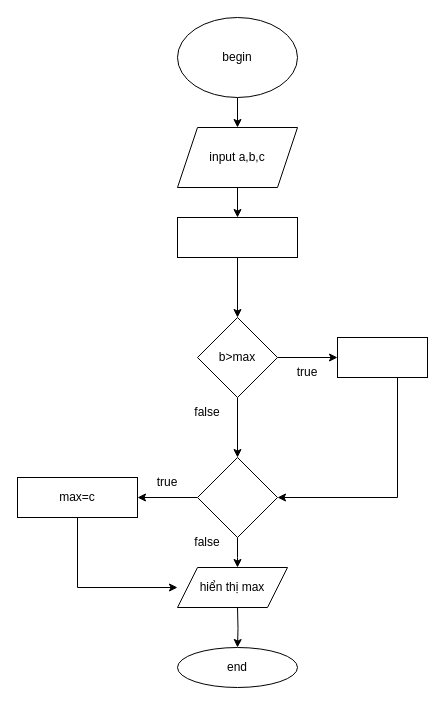
The diagram is 445 pixels wide and 705 high, and some of its shapes have lost their labels. Here are the shapes that lost their labels. From the top down, the centre of each, then its label:
At (x=237, y=237): "max=a".
At (x=382, y=357): "max=b".
At (x=237, y=497): "c>max".
